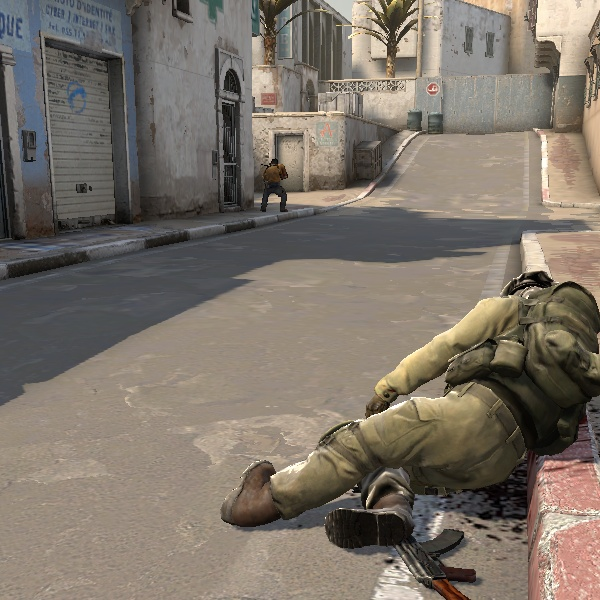t_body: (260, 153, 295, 213)
t_head: (266, 156, 281, 170)
